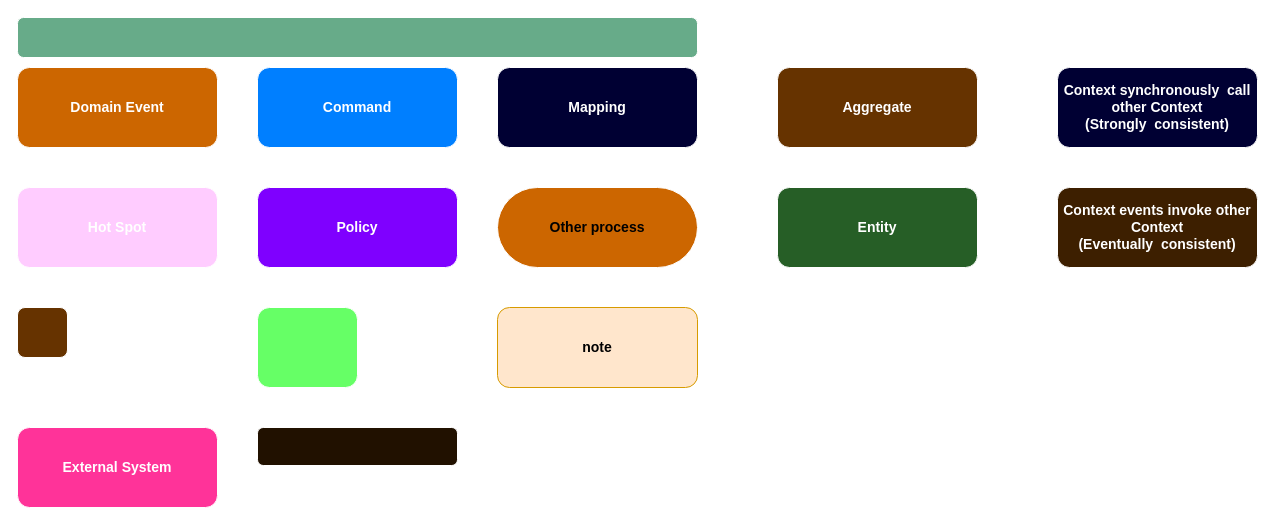
The diagram is 1275 pixels wide and 525 high, and some of its shapes have lost their labels. Here are the shapes that lost their labels. From the top down, the centre of each, then its label:
point 357,37: label
point 42,332: Actor
point 307,347: Read Model
point 357,446: Rule
